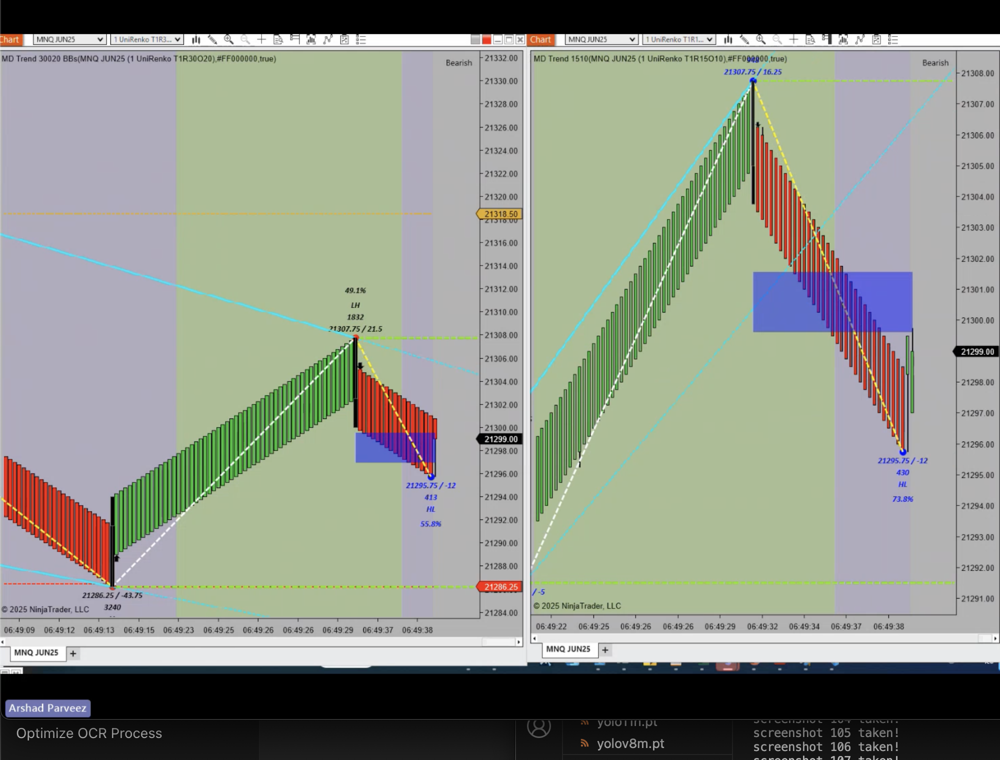HL: (420, 500, 444, 518), (891, 475, 913, 491)
LH: (343, 299, 368, 312)
